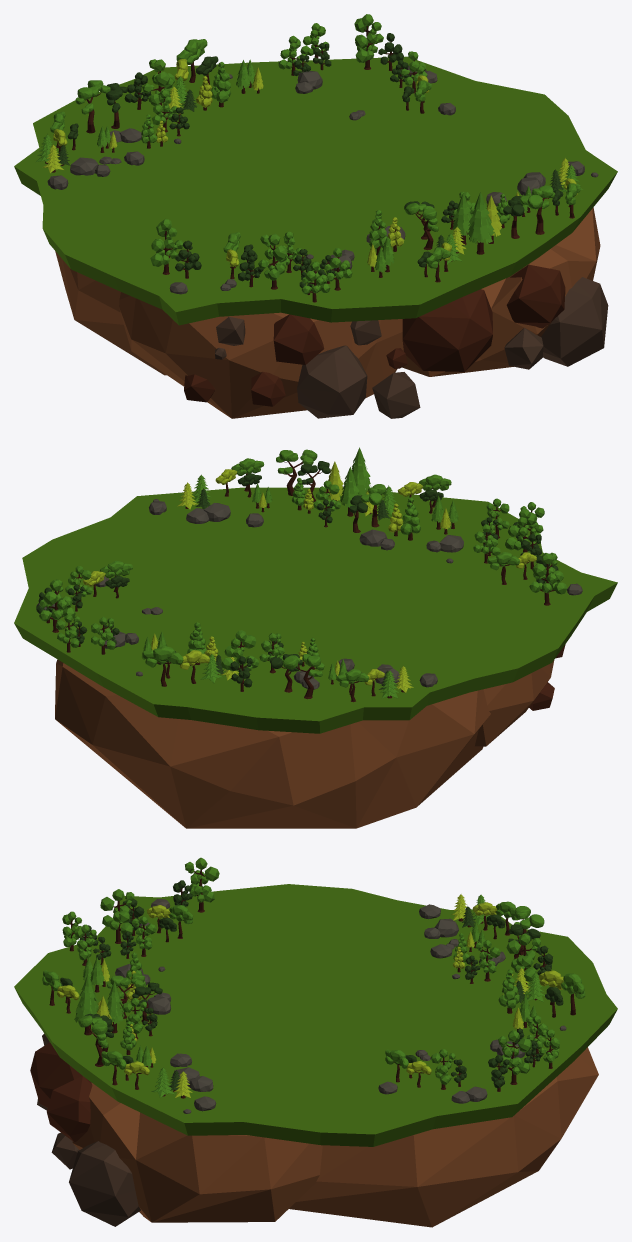
File: Ground_1.FBX
The picture shows the model from 3 angles, top to bottom: view 1: azimuth 30°, elevation 25°; view 2: azimuth 150°, elevation 25°; view 3: azimuth 270°, elevation 25°; orthographic projection. The views are drawn at different scales.
Parts seen in each view (by area): view 1: huitugou_2405_03, huitugou_2405_01, huitugou_2405_038, huitugou_2405_025, huitugou_2405_019, huitugou_2405_029, huitugou_2405_015, huitugou_2405_09, huitugou_2405_036, huitugou_2405_012, huitugou_2405_014, huitugou_2405_024 (+16 smaller); view 2: huitugou_2405_03, huitugou_2405_01, huitugou_2405_038, huitugou_2405_015, huitugou_2405_036, huitugou_2405_012, huitugou_2405_029, huitugou_2405_019, huitugou_2405_025, huitugou_2405_09, huitugou_2405_022, huitugou_2405_034 (+17 smaller); view 3: huitugou_2405_03, huitugou_2405_01, huitugou_2405_019, huitugou_2405_038, huitugou_2405_025, huitugou_2405_029, huitugou_2405_015, huitugou_2405_012, huitugou_2405_037, huitugou_2405_027, huitugou_2405_07, huitugou_2405_036 (+19 smaller).
Part boxes in pixels (box(x1,y1,x2,y2)): huitugou_2405_03: box(14, 56, 617, 325); huitugou_2405_01: box(55, 207, 608, 418); huitugou_2405_038: box(452, 192, 501, 254); huitugou_2405_025: box(150, 219, 201, 278); huitugou_2405_019: box(354, 14, 403, 70); huitugou_2405_029: box(238, 233, 287, 289); huitugou_2405_015: box(124, 59, 174, 109); huitugou_2405_09: box(75, 80, 127, 133); huitugou_2405_036: box(503, 185, 555, 238); huitugou_2405_012: box(175, 39, 218, 84); huitugou_2405_014: box(196, 62, 230, 110); huitugou_2405_024: box(369, 210, 404, 255); huitugou_2405_03: box(14, 487, 617, 733); huitugou_2405_01: box(55, 644, 565, 828); huitugou_2405_038: box(326, 447, 370, 516); huitugou_2405_015: box(221, 630, 259, 691); huitugou_2405_036: box(276, 449, 330, 502); huitugou_2405_012: box(142, 646, 209, 686); huitugou_2405_029: box(505, 508, 542, 569); huitugou_2405_019: box(36, 579, 75, 632); huitugou_2405_025: box(529, 552, 567, 605); huitugou_2405_09: box(270, 654, 324, 699); huitugou_2405_022: box(397, 474, 451, 513); huitugou_2405_034: box(215, 458, 264, 497); huitugou_2405_03: box(14, 884, 617, 1146); huitugou_2405_01: box(30, 1033, 598, 1227); huitugou_2405_019: box(488, 1030, 531, 1091); huitugou_2405_038: box(74, 974, 124, 1035); huitugou_2405_025: box(173, 857, 219, 912); huitugou_2405_029: box(100, 889, 144, 943); huitugou_2405_015: box(506, 933, 552, 987); huitugou_2405_012: box(539, 970, 585, 1017); huitugou_2405_037: box(107, 973, 162, 1021); huitugou_2405_027: box(146, 905, 192, 942); huitugou_2405_07: box(472, 901, 519, 939); huitugou_2405_036: box(78, 1013, 113, 1066).
Size of the model in its own units: 20980 by 9224 by 21381.
